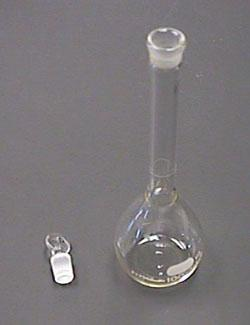Volumetric flask: (116, 27, 208, 290)
